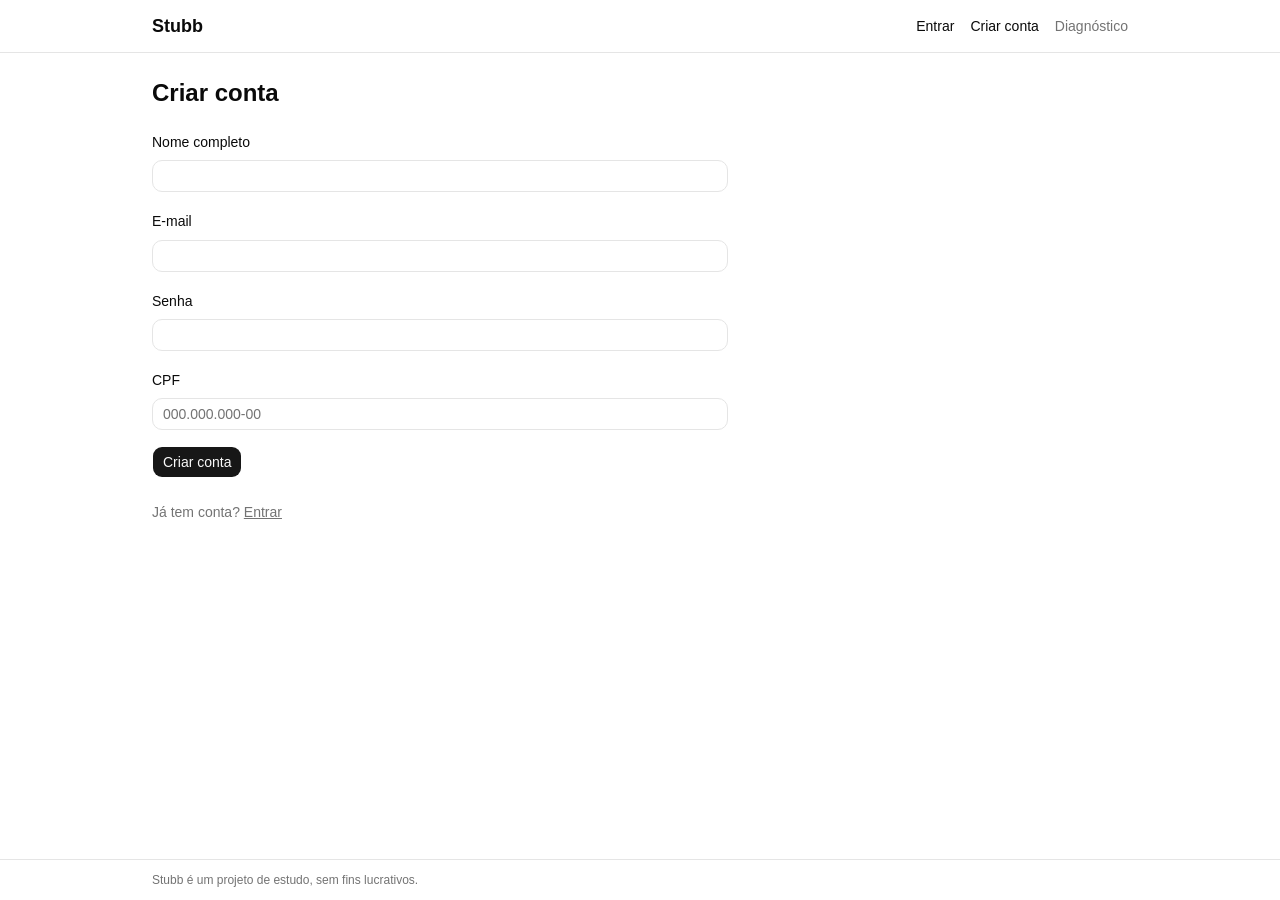
Test: RegisterPage › cadastro aceito: envia o corpo normalizado com Idempotency-Key e confirma o envio do e-mail
Expected: the heading "Criar conta" is shown, [152, 79, 279, 106]
Type "Ana Souza" into the field labelled "Nome completo" at (440, 176), box [152, 160, 728, 192]
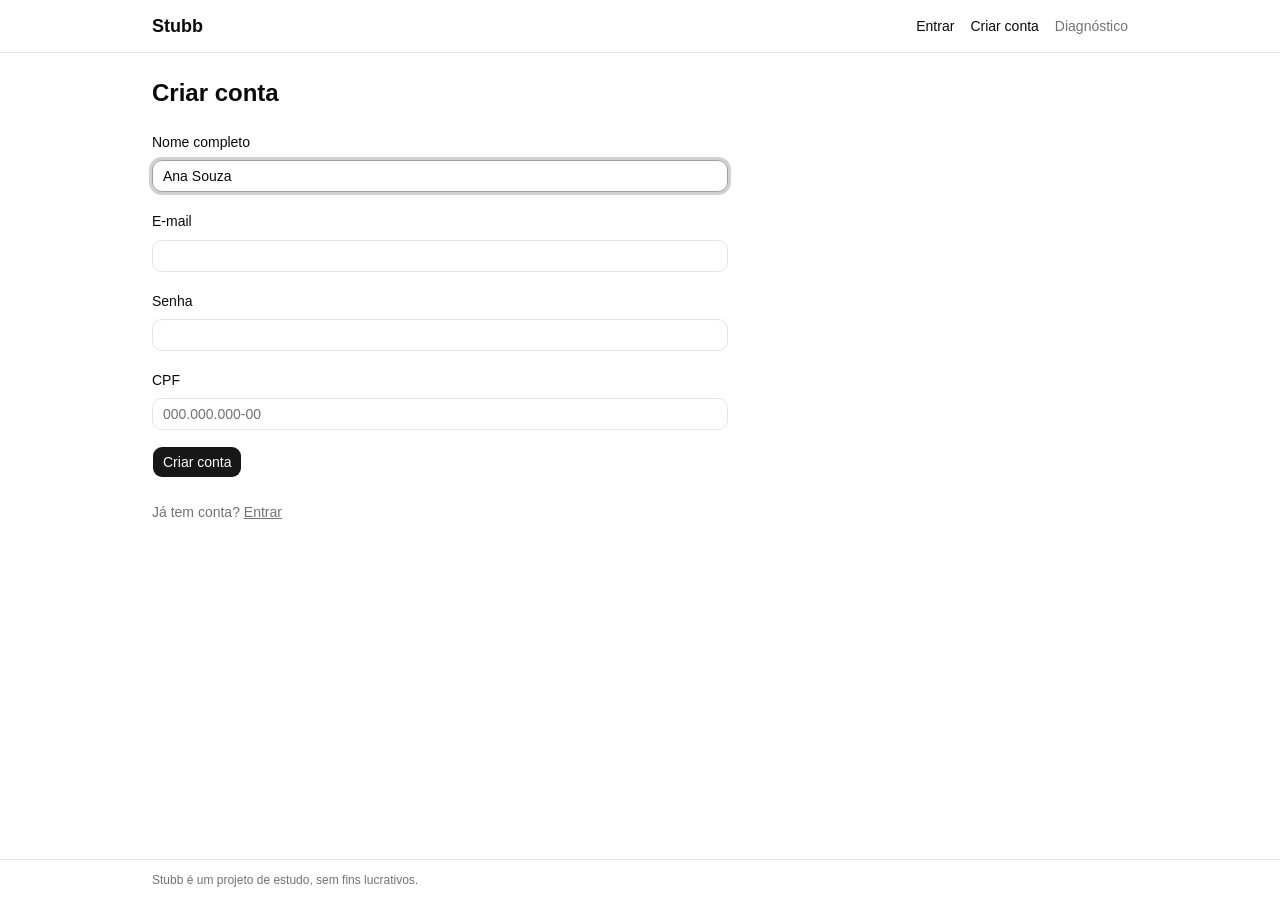
Type "Ana@Exemplo.com" into the field labelled "E-mail" at (440, 256), box [152, 240, 728, 272]
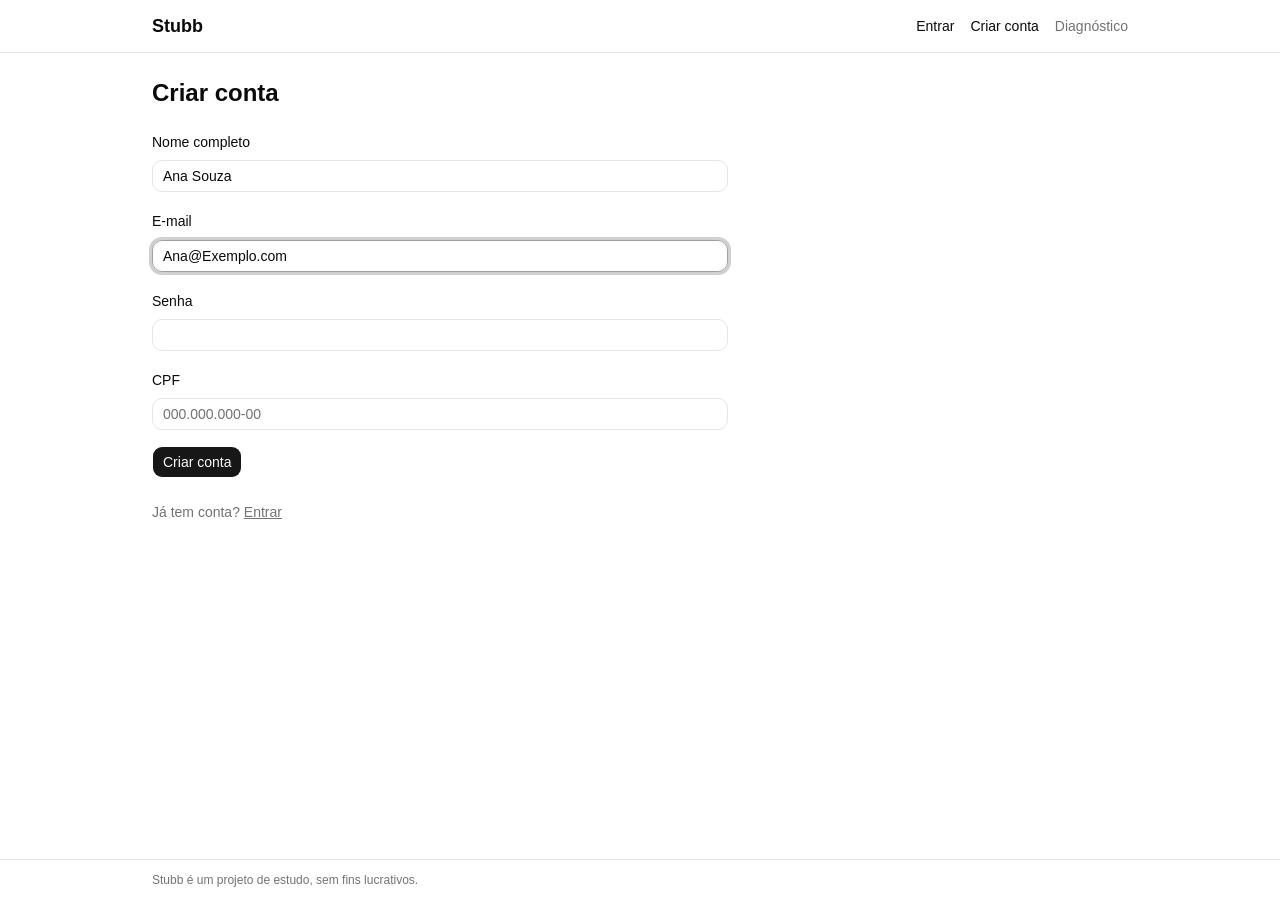
Type "senha-segura-1" into the password field labelled "Senha" at (440, 335), box [152, 319, 728, 351]
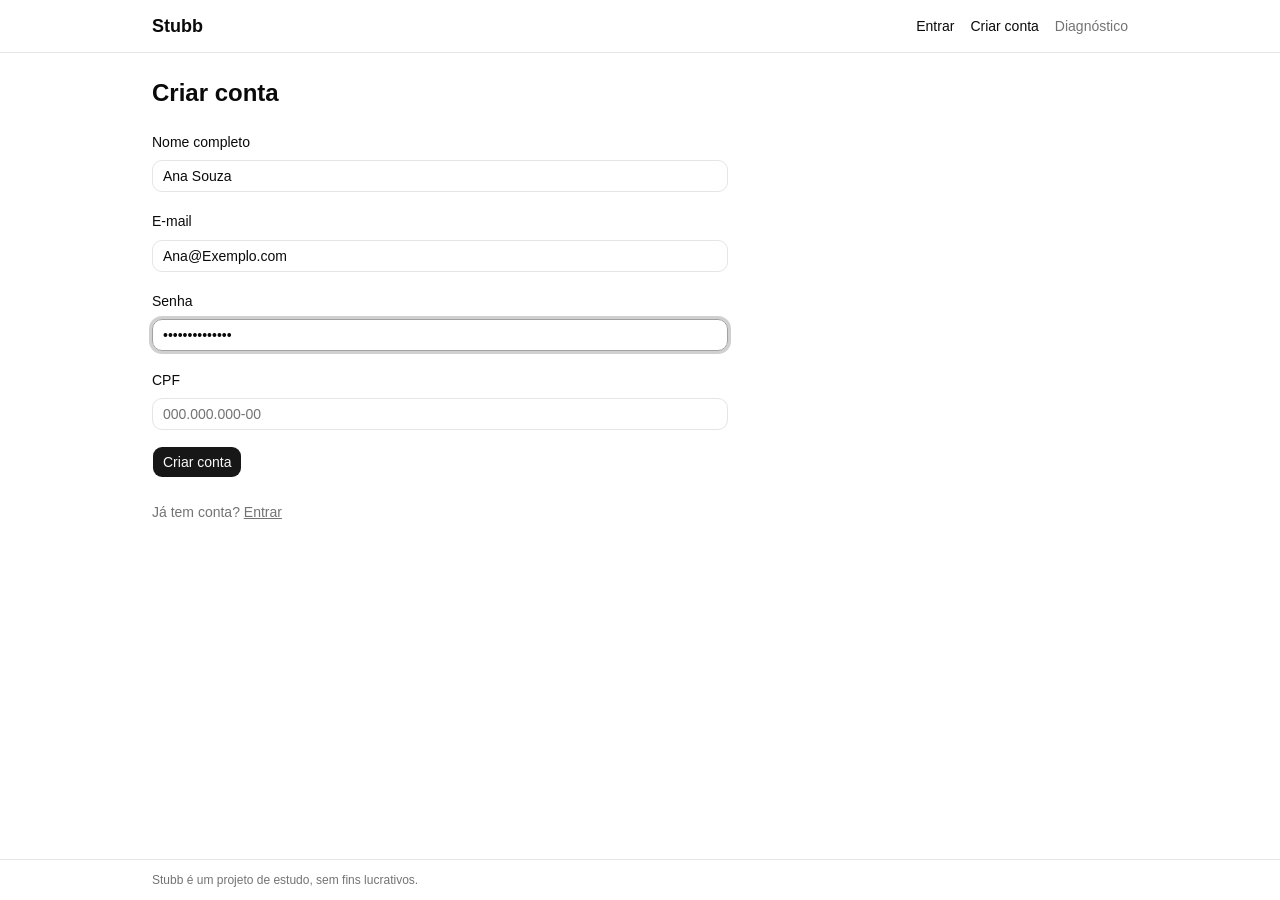
Type "123.456.789-09" into the field labelled "CPF" at (440, 414), box [152, 398, 728, 430]
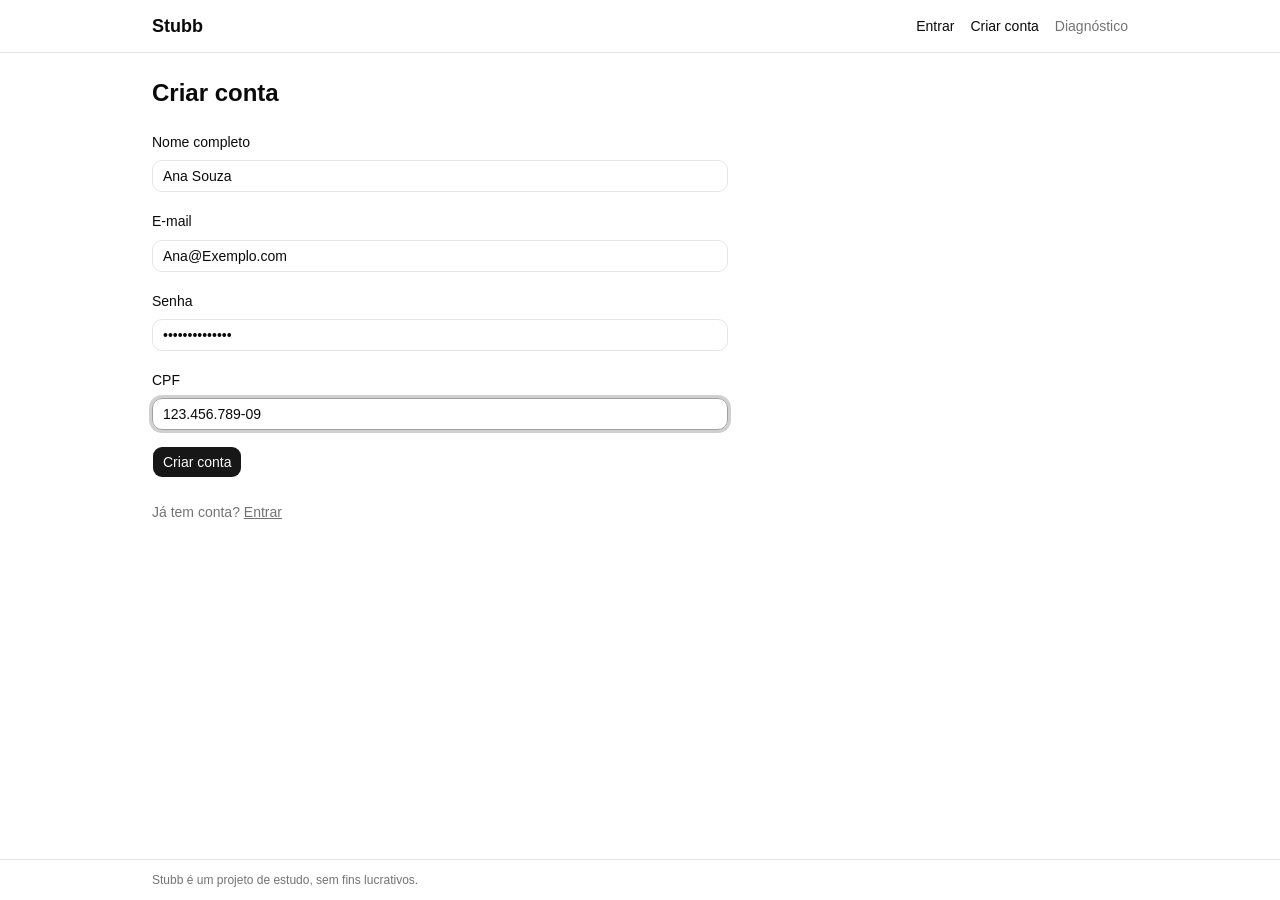
Click the button "Criar conta" at (197, 462), box [152, 446, 242, 478]
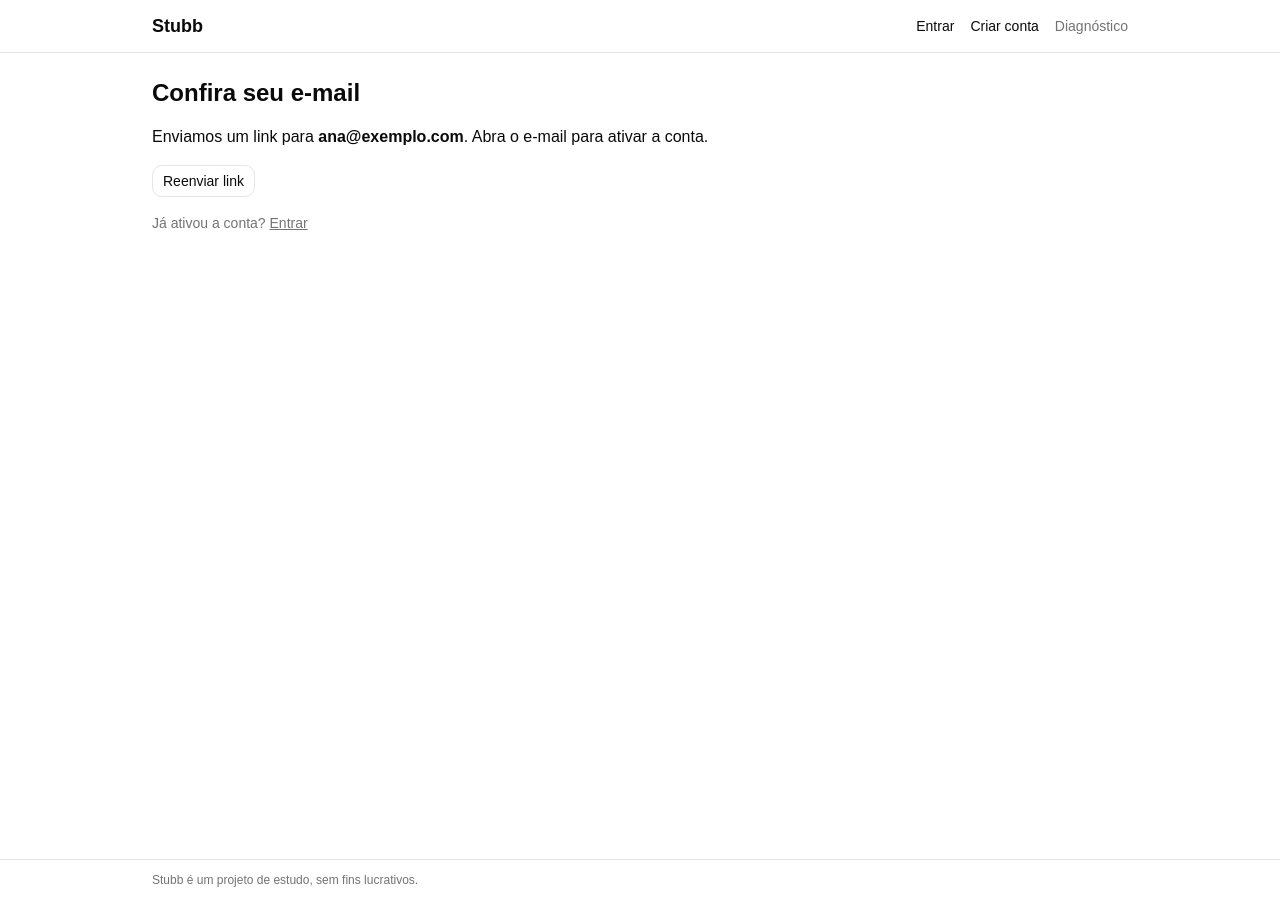
Expected: the text "Abra o e-mail para ativar a conta" is shown, [464, 128, 708, 145]
Expected: the text "Enviamos um link para" shows "ana@exemplo.com", [318, 128, 464, 145]
